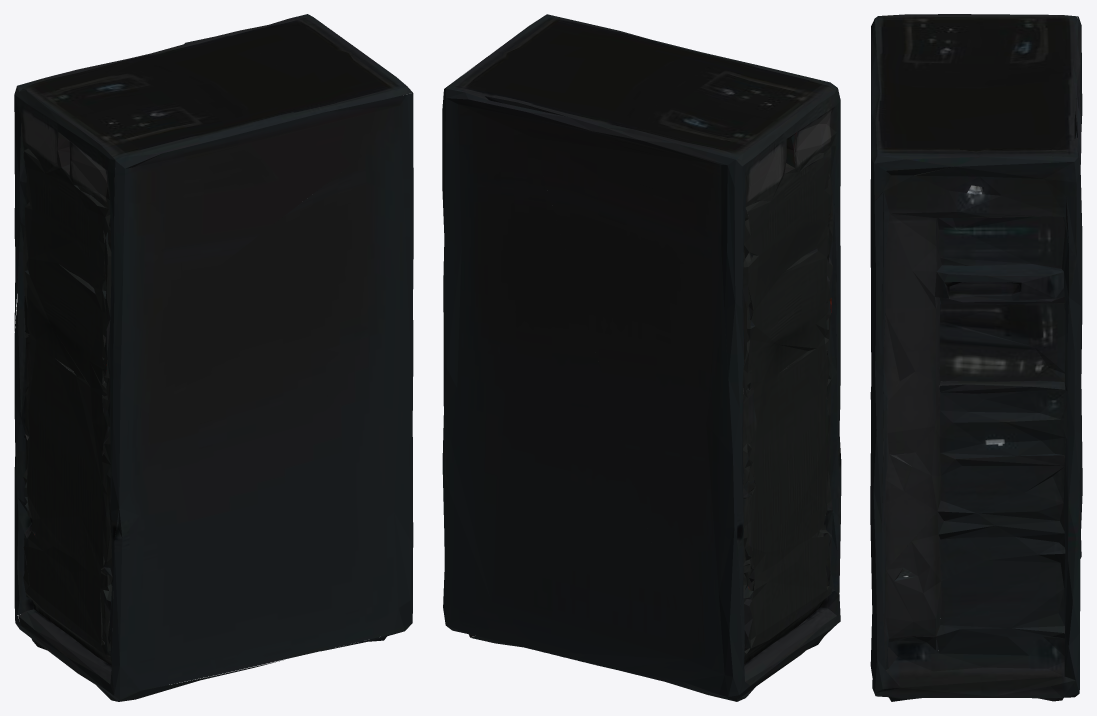
Rendered from server.glb.
3 views of the same model, side by side, from view 1: azimuth 30°, elevation 25°; view 2: azimuth 150°, elevation 25°; view 3: azimuth 270°, elevation 25° (orthographic).
Parts seen in each view (by area): view 1: world; view 2: world; view 3: world.
Boxes of the visible parts, x1=… form: world: x1=14, y1=14, x2=413, y2=701; world: x1=442, y1=14, x2=841, y2=701; world: x1=870, y1=14, x2=1082, y2=701.
Bounding box in the file's own units: 0.57 × 1 × 0.3471.
Materials: 1 (1 with a texture image).
